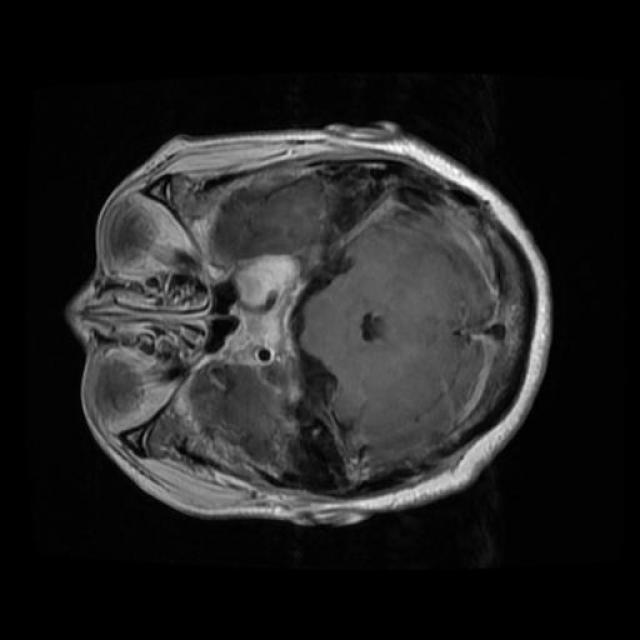Meningioma: (232, 255, 300, 314)
